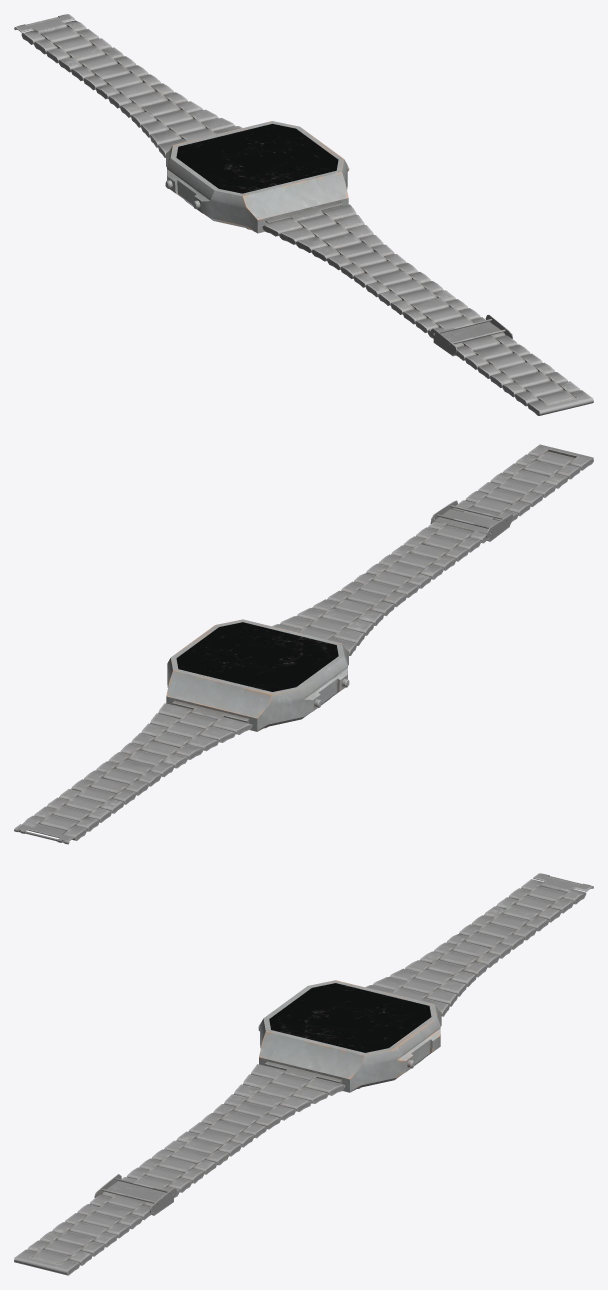
Rendered from digital_wrist_watch.glb.
3 views of the same model, one above another, from view 1: azimuth 30°, elevation 25°; view 2: azimuth 150°, elevation 25°; view 3: azimuth 330°, elevation 25° (orthographic).
Parts seen in each view (by area): view 1: digital_wrist_watch; view 2: digital_wrist_watch; view 3: digital_wrist_watch.
Boxes of the visible parts, x1,y1,x2,y2 form: digital_wrist_watch: [14, 14, 593, 415]; digital_wrist_watch: [14, 444, 593, 844]; digital_wrist_watch: [14, 873, 593, 1275].
Size of the model in its own units: 0.0365 by 0.00835 by 0.2172.
2 materials, 2 textured.
